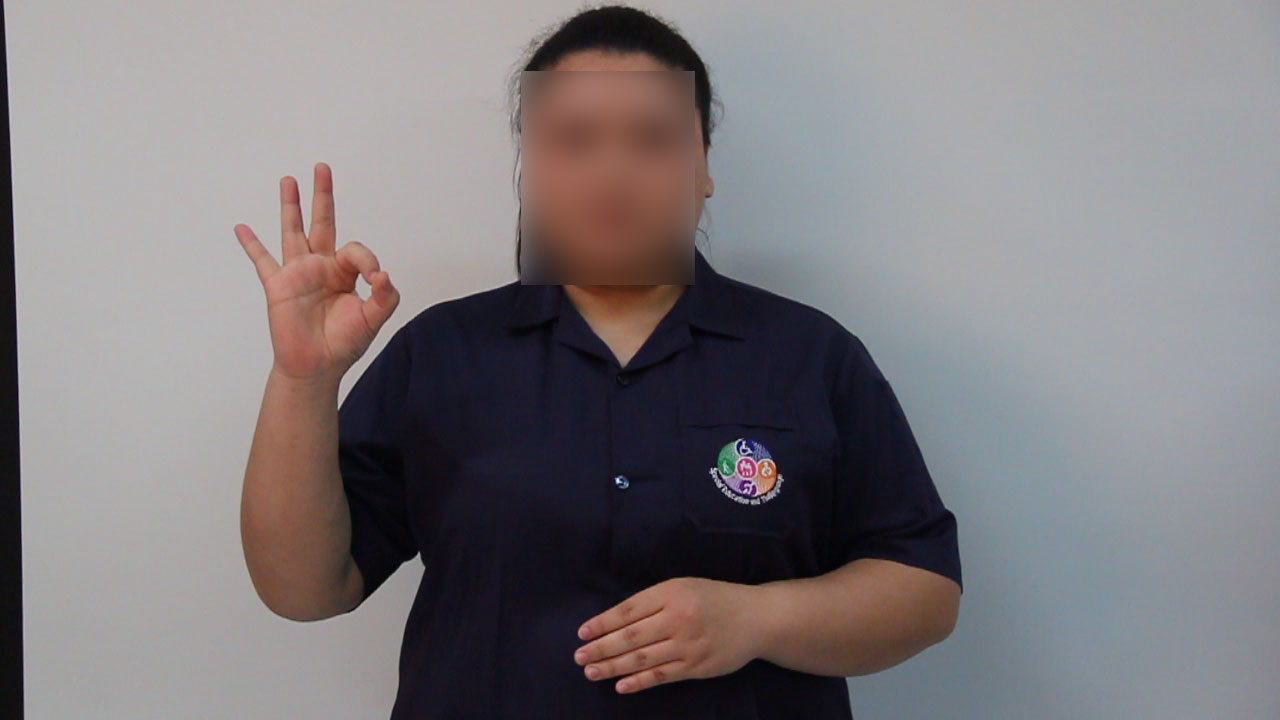for: (219, 149, 408, 381)
